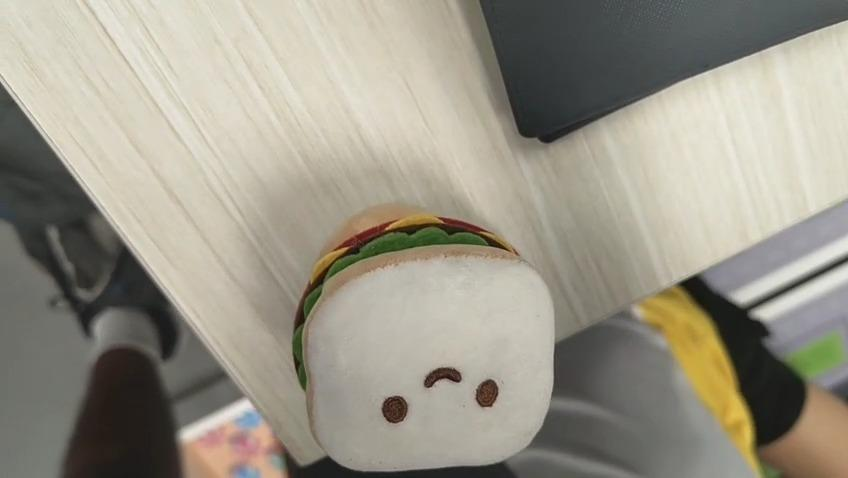objects: (292, 204, 556, 475)
